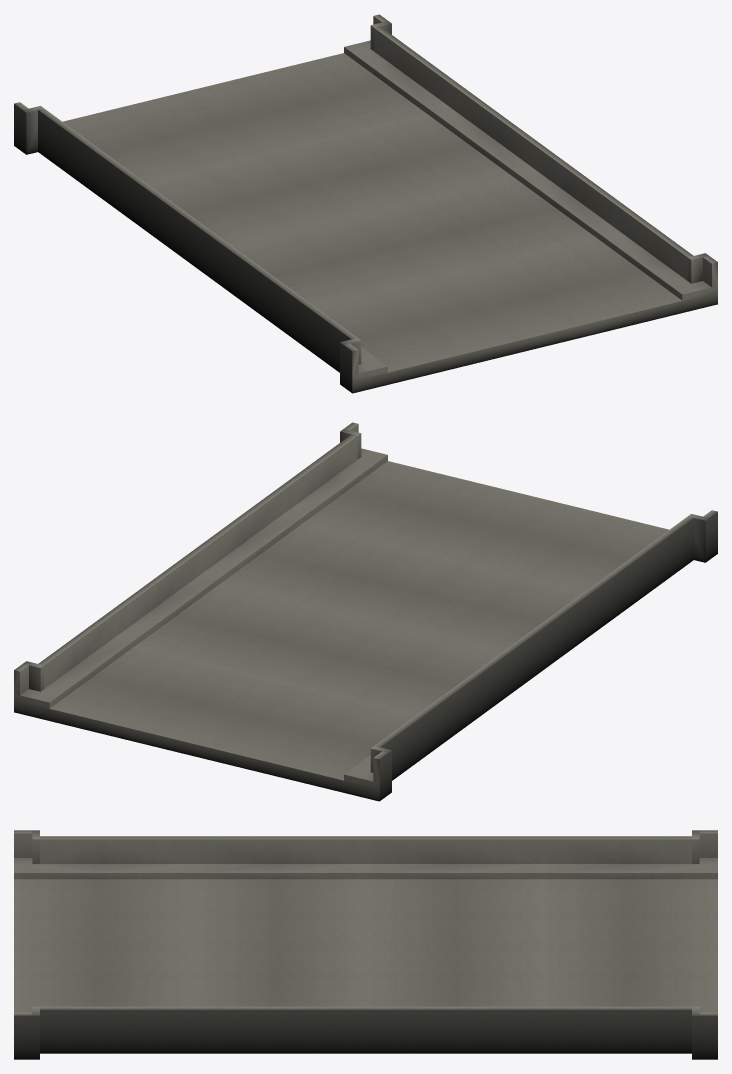
File: 3RAIL_SONE.glb
3 renders of one model, top to bottom at view 1: azimuth 30°, elevation 25°; view 2: azimuth 150°, elevation 25°; view 3: azimuth 270°, elevation 25°, orthographic. The views are drawn at different scales.
Visible parts, largest first — view 1: obj4; view 2: obj4; view 3: obj4.
Boxes of the visible parts, box(x1,y1,x2,y2) form: obj4: box(14, 14, 717, 393); obj4: box(14, 422, 717, 801); obj4: box(14, 830, 717, 1059).
Size of the model in its own units: 62.35 by 6.88 by 100.
1 material, 1 textured.
